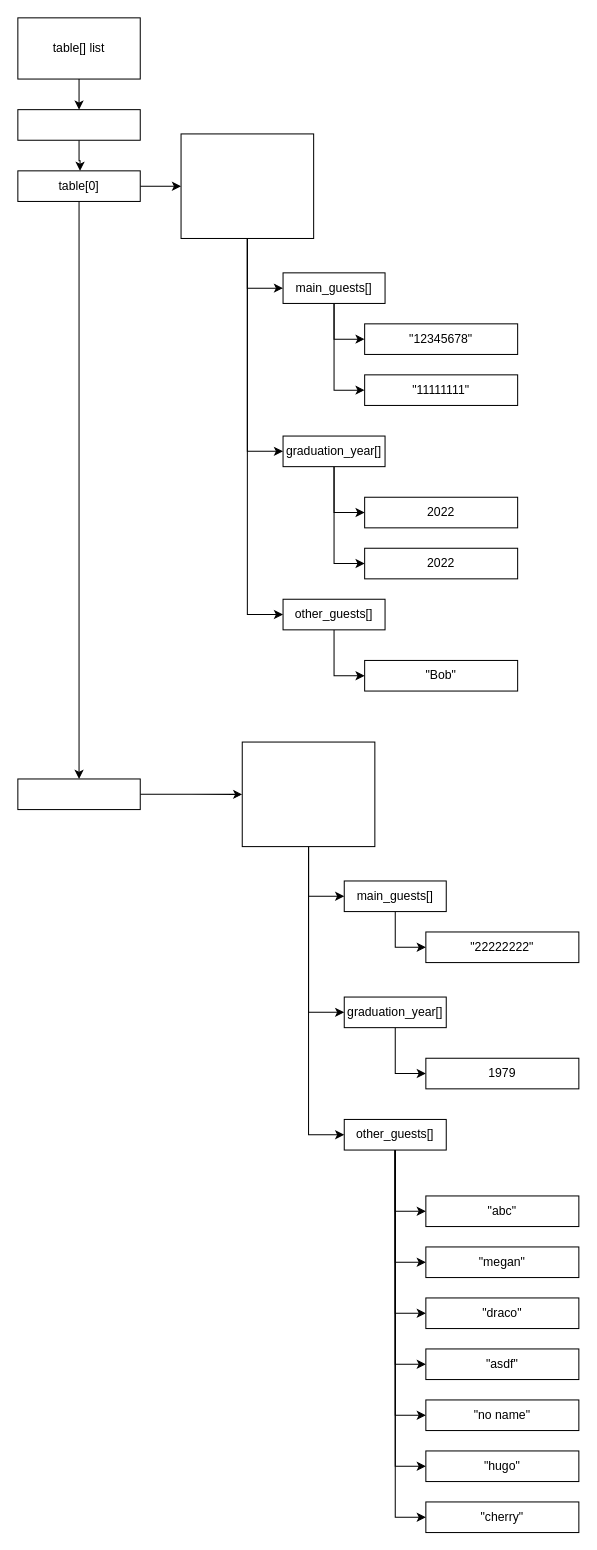
This 597x1550 diagram has some shape labels left out. The centre of each missing label's shape, as x and y in pixels:
index (table_id): point (78, 124)
table[1]: point (78, 794)
table_id: 0 type: "small" min: 4 max: 6 seats_occupied: 4 guests_seated: {dict}: point (247, 185)
table_id: 1 type: "small" min: 10 max: 8 seats_occupied: 8 guests_seated: {dict}: point (308, 794)
